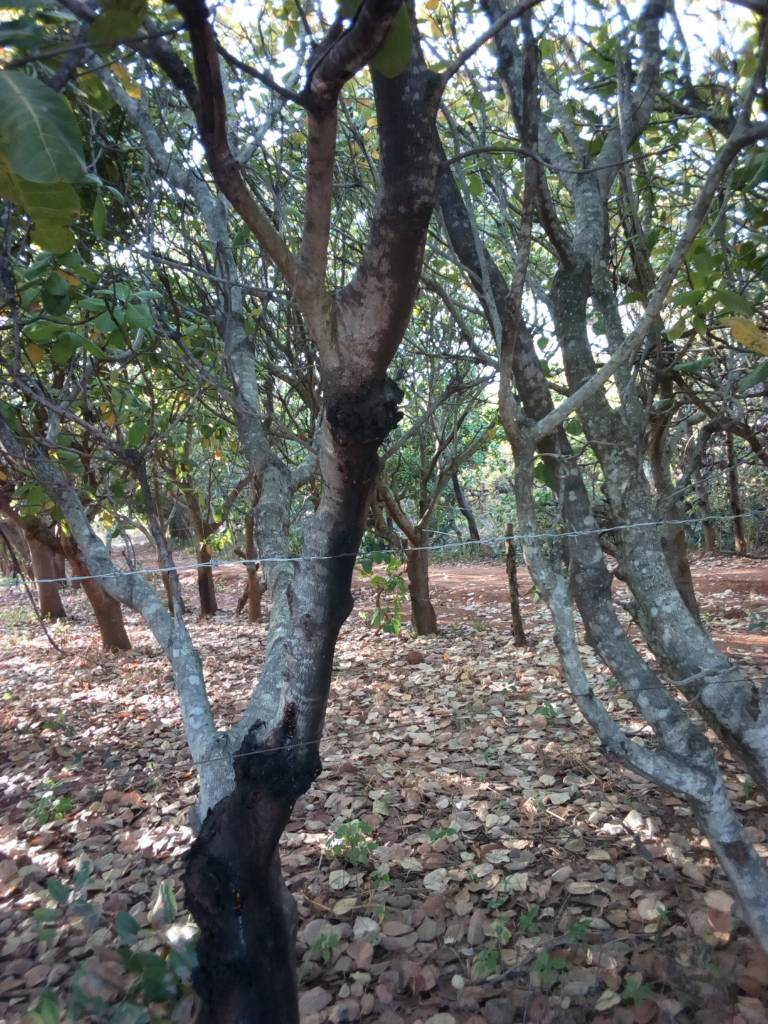Gommose: (180, 785, 282, 1007), (335, 374, 391, 547)
